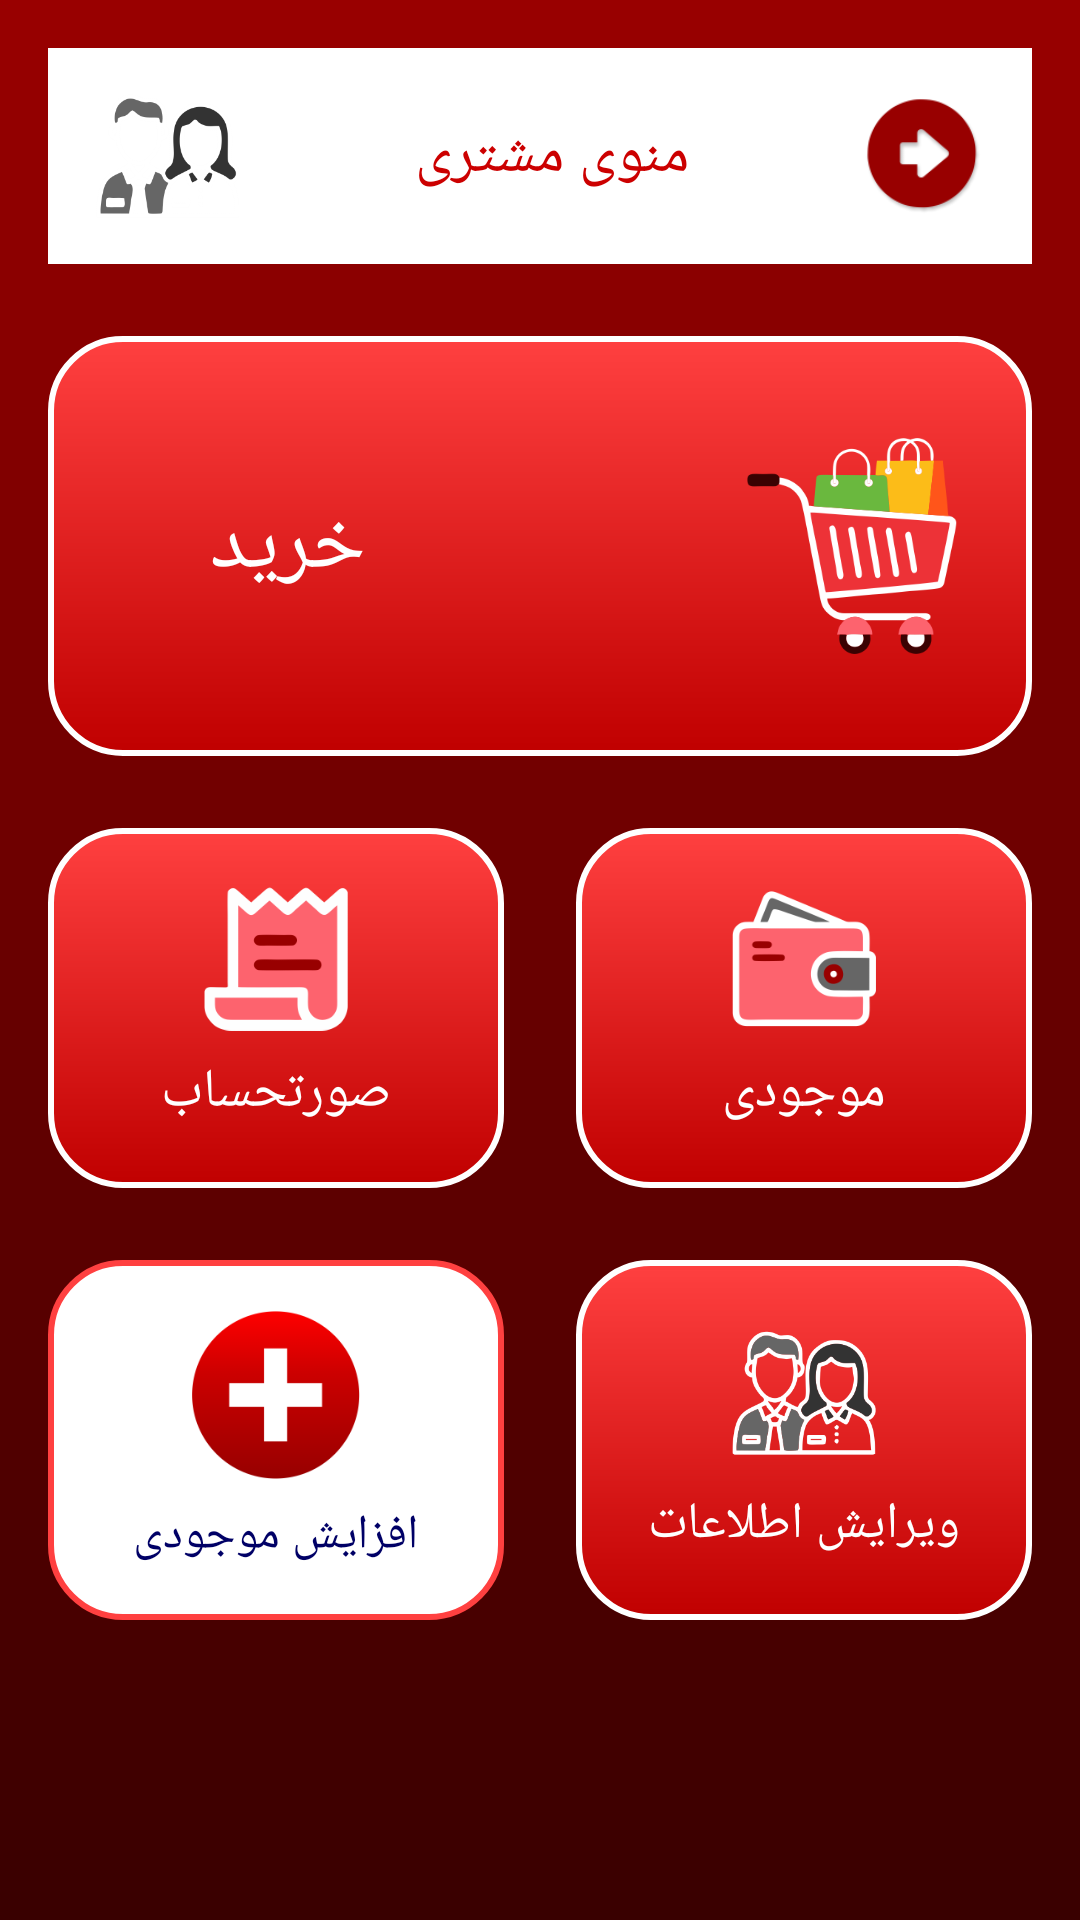

Screen size 1080*1920. Icon name, then its center in pixels as point (x, y):
backicon: point (922, 155)
balance: point (804, 961)
buyicon: point (852, 546)
customericon: point (168, 156), point (804, 1398)
recipticon: point (276, 959)
